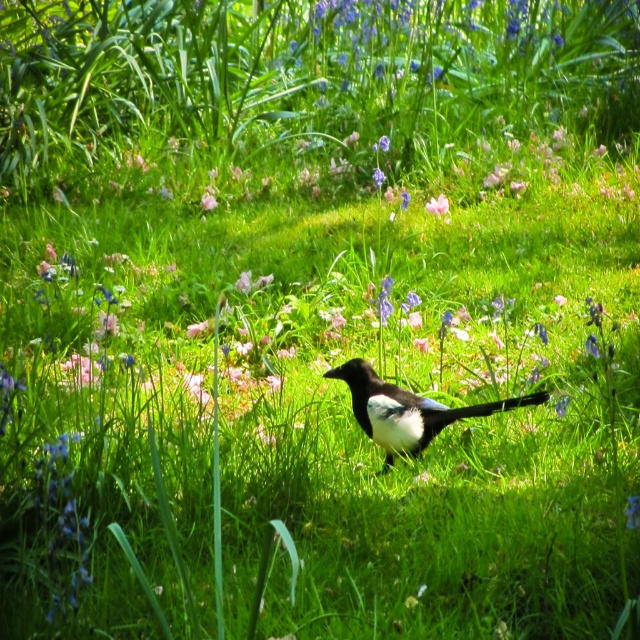Magpie: (324, 357, 552, 481)
